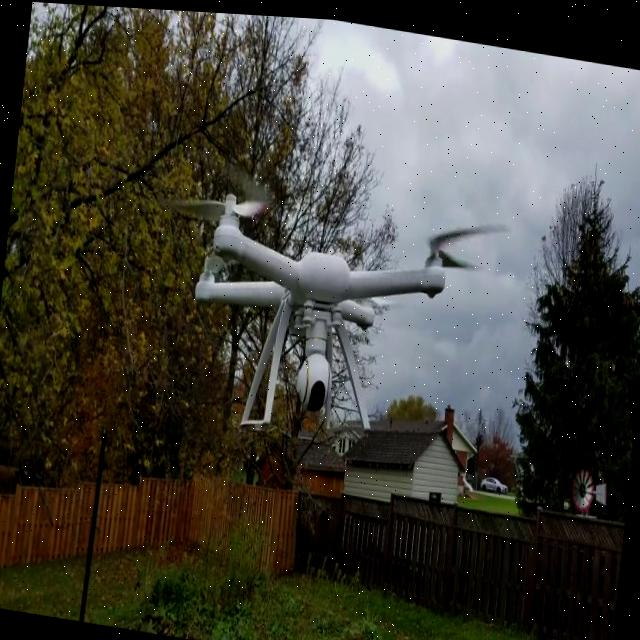drone: (166, 160, 514, 376)
